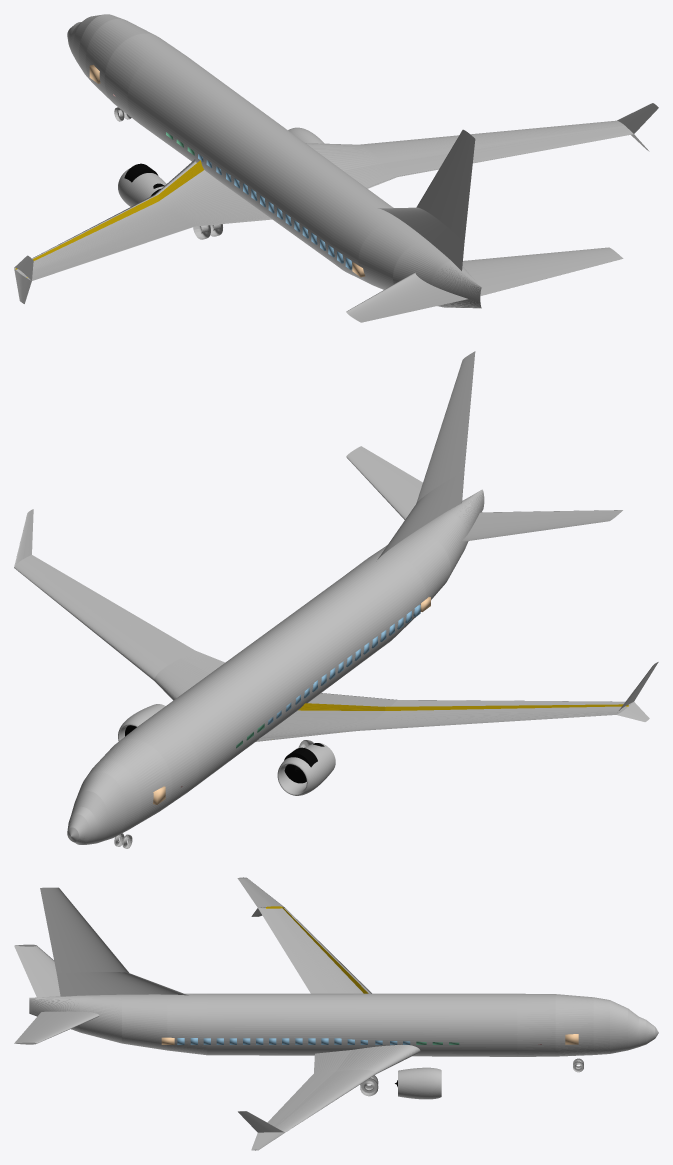
Rendered from Boeing_737_Max_8.gltf.
The picture shows the model from 3 angles, top to bottom: view 1: azimuth 30°, elevation 25°; view 2: azimuth 150°, elevation 25°; view 3: azimuth 270°, elevation 25°; orthographic projection. The views are drawn at different scales.
Visible parts, largest first — view 1: Renderer Node; view 2: Renderer Node; view 3: Renderer Node.
Part boxes in pixels (x1=…): Renderer Node: x1=14, y1=14, x2=658, y2=322; Renderer Node: x1=14, y1=351, x2=658, y2=848; Renderer Node: x1=14, y1=877, x2=658, y2=1150.
Size of the model in its own units: 34.32 by 12.73 by 40.07.
